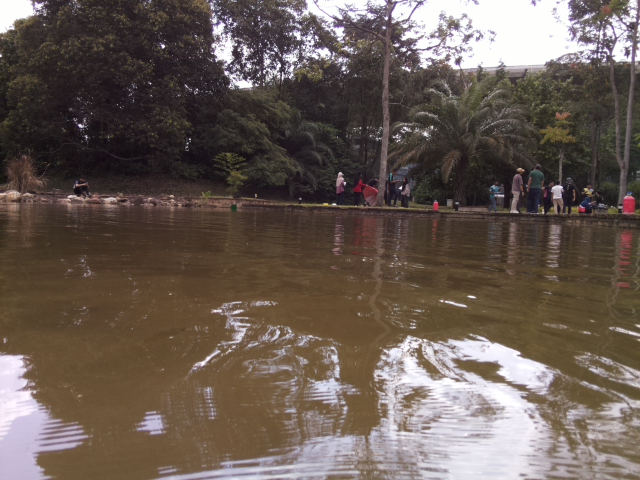obstacle: (230, 203, 237, 211)
